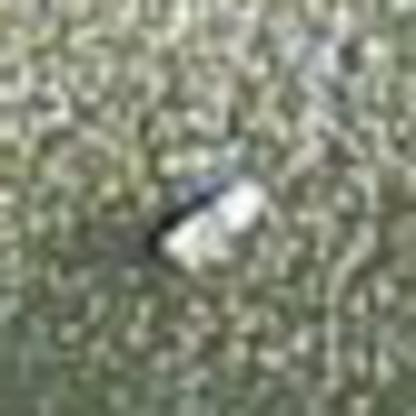ship: (122, 150, 278, 291)
